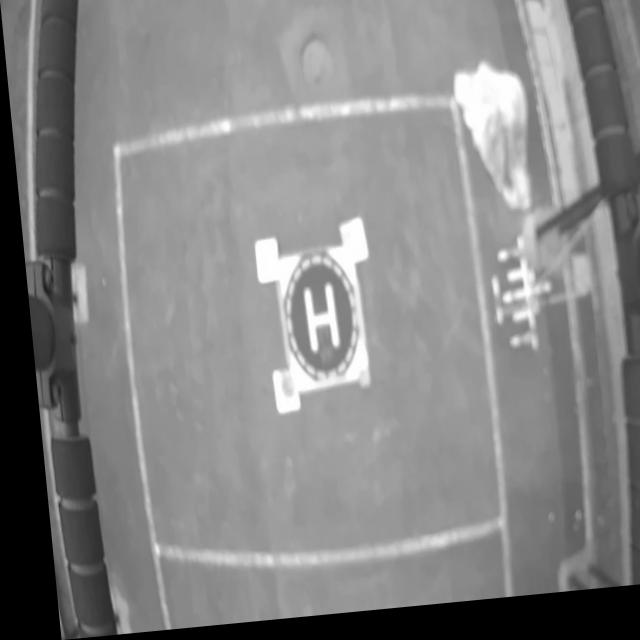Helipad: (296, 288, 334, 359)
